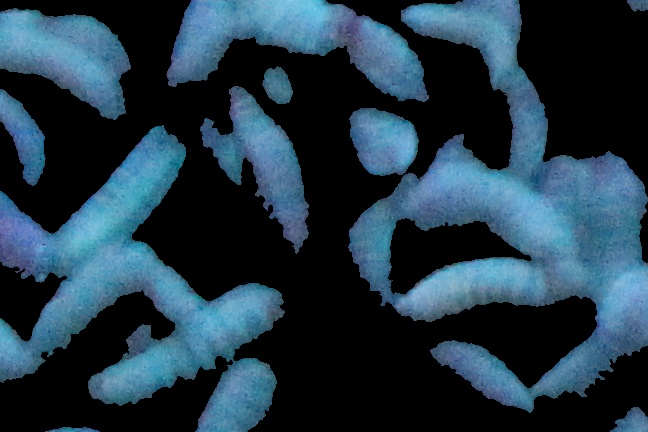larvae: (79, 275, 290, 406), (38, 127, 199, 262), (233, 1, 417, 96), (222, 83, 318, 255), (420, 151, 570, 253), (395, 256, 582, 331), (1, 14, 135, 113), (25, 253, 162, 344), (417, 329, 534, 410), (327, 181, 408, 297), (580, 131, 648, 268), (402, 1, 516, 75), (496, 50, 556, 177), (195, 358, 282, 432), (168, 1, 226, 98), (415, 1, 519, 12)
